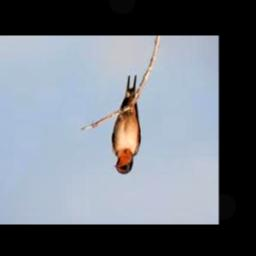Swallow: (112, 75, 140, 174)
